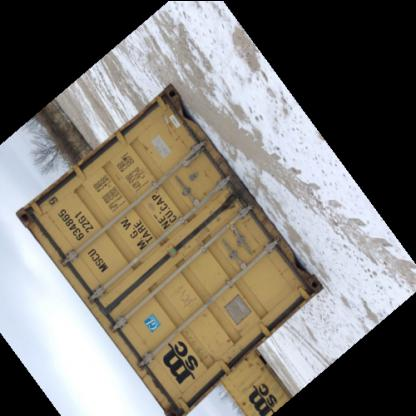Damage: (145, 373, 188, 413), (156, 108, 188, 146), (180, 331, 214, 363), (214, 180, 246, 212), (173, 278, 202, 308), (16, 202, 42, 223)
